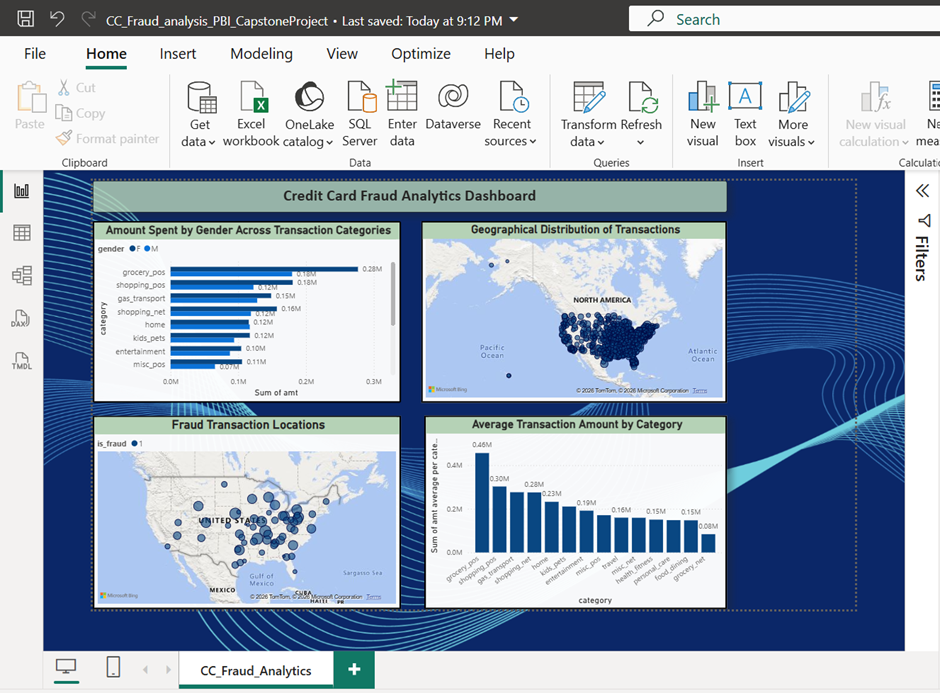

Layout of this report page (visuals, bound fields, positions):
{"tool":"powerbi","page":{"name":"CC_Fraud_Analytics","canvas":[1280,720],"ordinal":0},"visuals":[{"type":"clusteredBarChart","title":"Amount Spent by Gender Across Transaction Categories","fields":{"Category":["cc_data_dec19.category"],"Y":["Sum(cc_data_dec19.amt)"],"Series":["cc_data_dec19.gender"]},"box":[0,67.9,517.9,305.4],"z":0},{"type":"map","title":"Geographical Distribution of Transactions","fields":{"Y":["cc_data_dec19.lat"],"X":["cc_data_dec19.long"],"Size":["Sum(cc_data_dec19.amt)"]},"box":[551.8,67.9,514.3,305.4],"z":1},{"type":"map","title":"Fraud Transaction Locations","fields":{"Y":["cc_data_dec19.lat"],"X":["cc_data_dec19.long"],"Series":["cc_data_dec19.is_fraud"],"Size":["Sum(cc_data_dec19.amt)"]},"box":[0,394.6,517.9,325],"z":2},{"type":"textbox","box":[0,0,1066.1,53.6],"z":3},{"type":"clusteredColumnChart","title":"Average Transaction Amount by Category","fields":{"Category":["cc_data_dec19.category"],"Y":["cc_data_dec19.Sum of amt average per category"]},"box":[557.1,394.6,508.9,325],"z":4}]}

Visuals, with their boxes on the page's 1280x720 design canvas (x1, y1, x2, y2). These are canvas units, not pixel positions in the 940x693 screenshot, which may show the page scaled, cropped or inside an application window:
"Amount Spent by Gender Across Transaction Categories" clusteredBarChart: detection(0, 68, 518, 373)
"Geographical Distribution of Transactions" map: detection(552, 68, 1066, 373)
"Fraud Transaction Locations" map: detection(0, 395, 518, 720)
textbox: detection(0, 0, 1066, 54)
"Average Transaction Amount by Category" clusteredColumnChart: detection(557, 395, 1066, 720)
